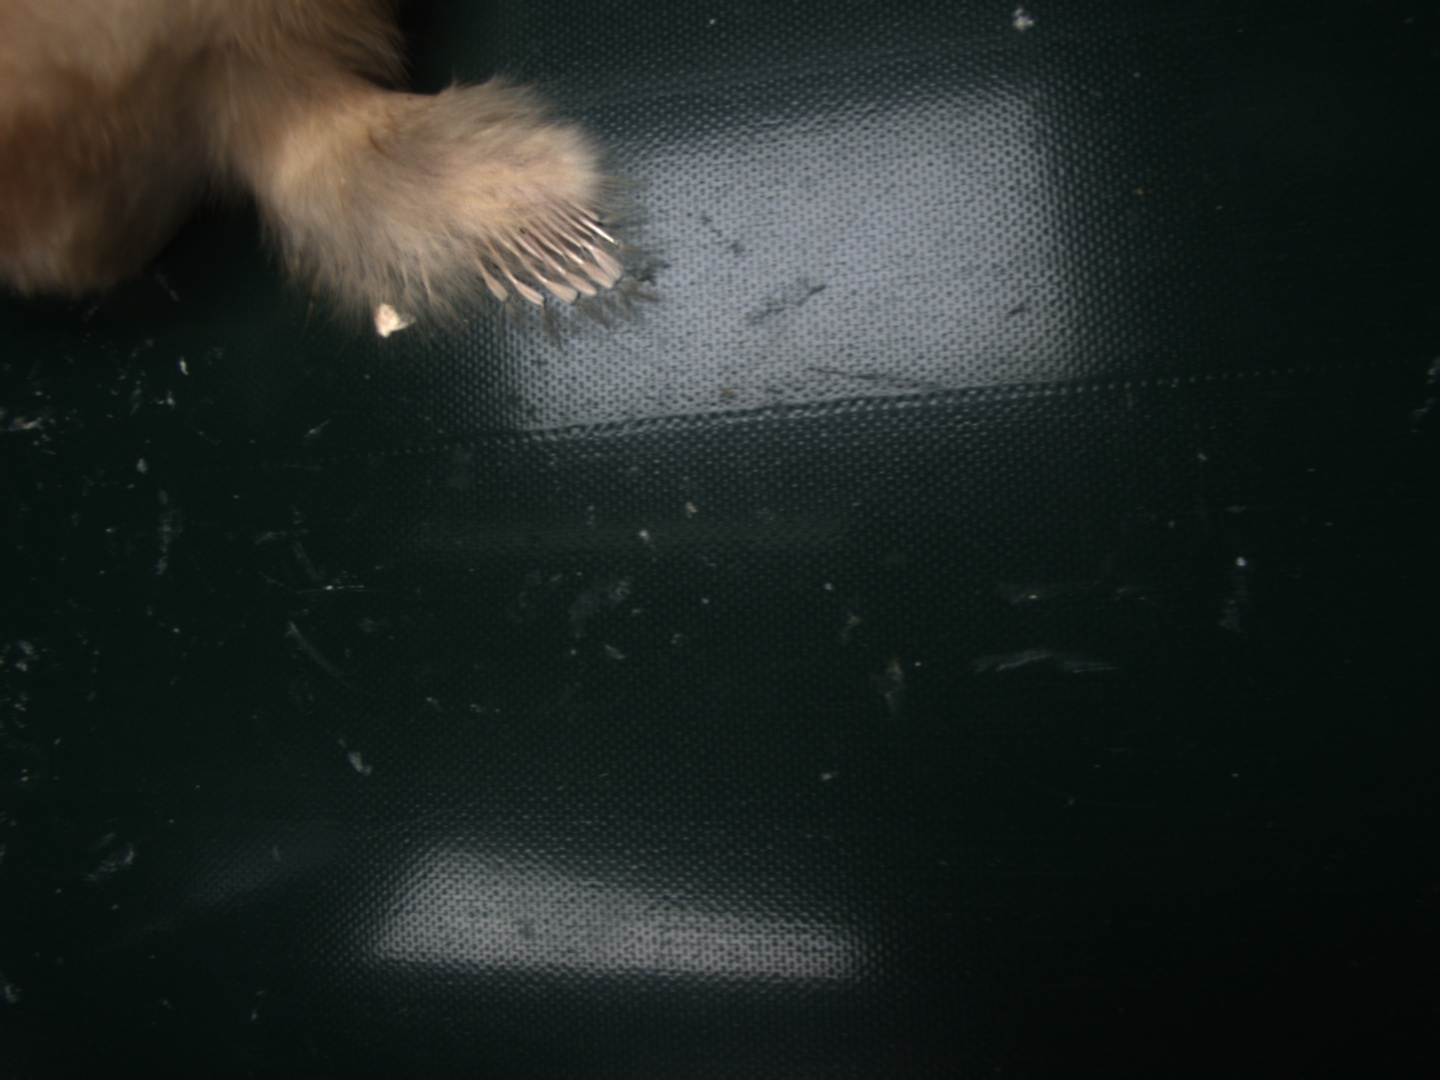female: (465, 196, 626, 305)
